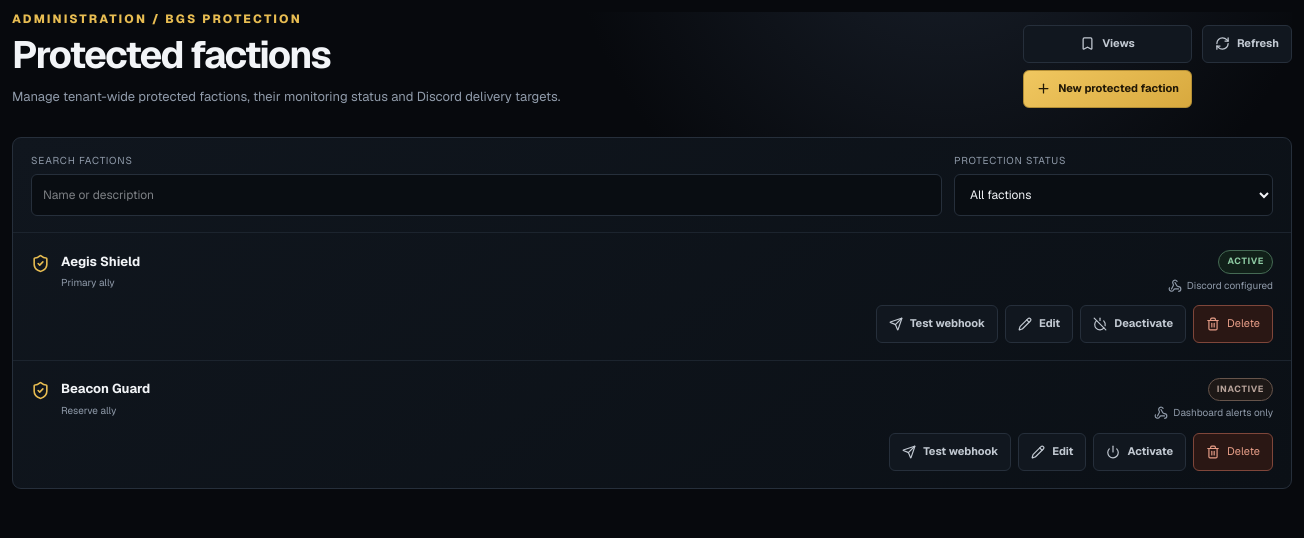
it: protected faction administration › tests the stored webhook without exposing its URL
Click the button "Test webhook" below "Discord configured" at coordinates (937, 324), box [876,305,998,343]
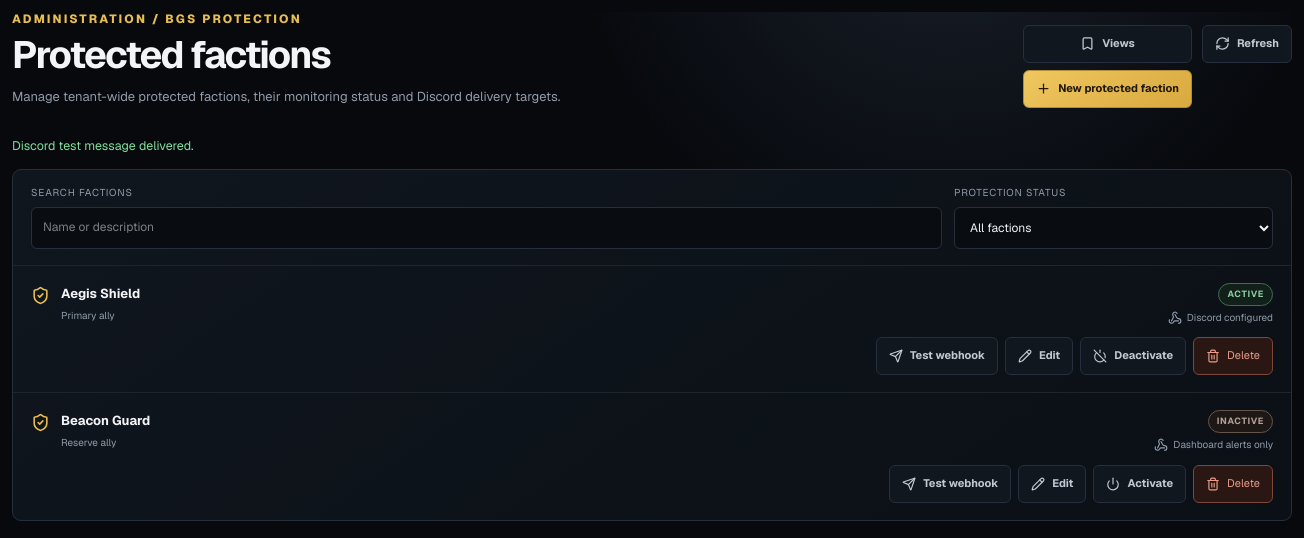
expect the text "Discord test message delivered." is shown: met, box [12,137,194,154]
